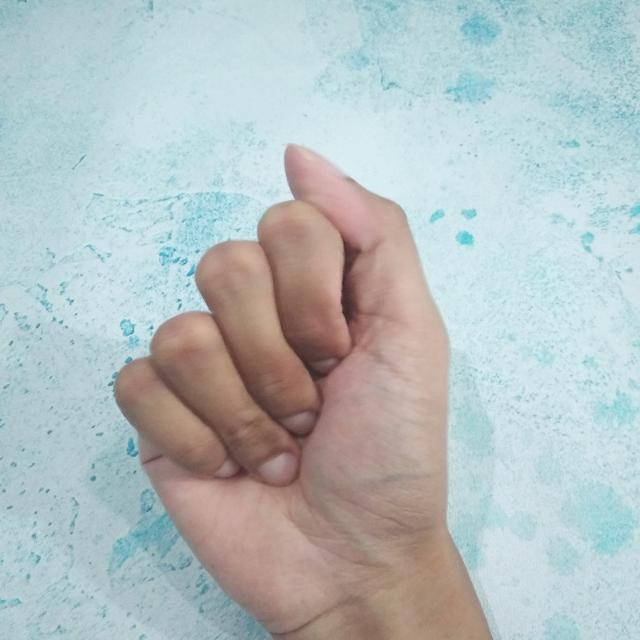A: (108, 131, 476, 640)
